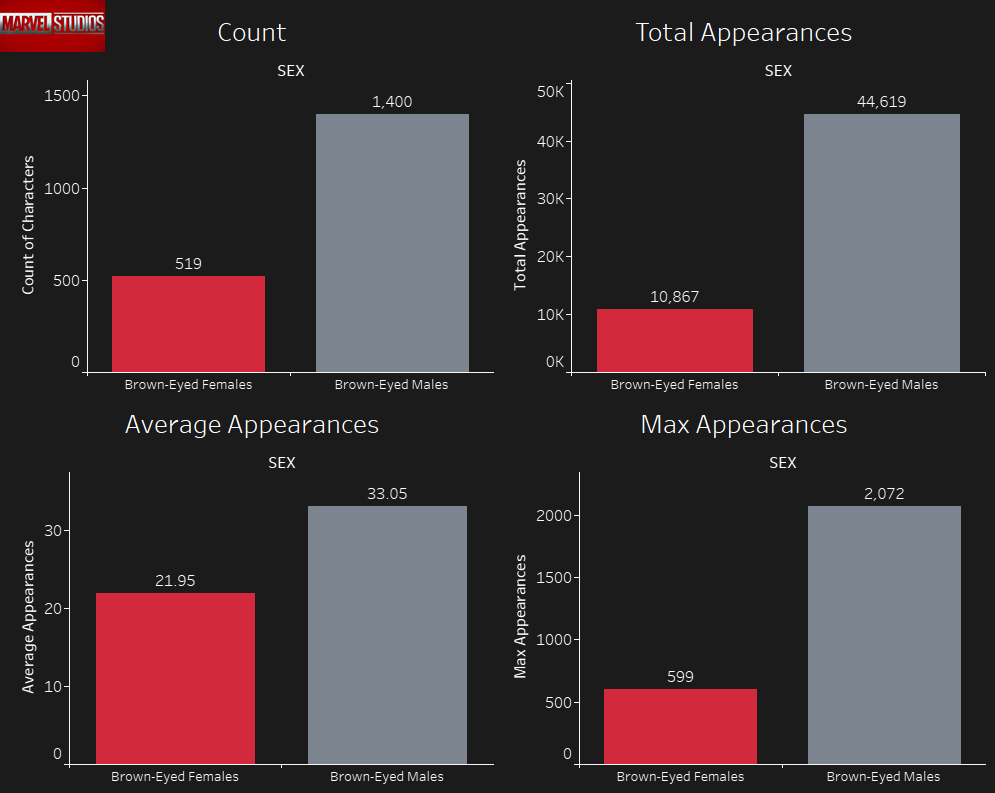

This screenshot's page, from the dashboard's own definition file:
{"tool":"tableau","page":{"name":"Summary Statistics","canvas":[1000,800],"ordinal":2},"visuals":[{"type":"worksheet","title":"Count","mark":"Bar","rows":["name"],"cols":["SEX"],"box":[8,8,492,392]},{"type":"worksheet","title":"Total Appearances","mark":"Bar","rows":["APPEARANCES"],"cols":["SEX"],"box":[500,8,492,392]},{"type":"worksheet","title":"Avg Appearances","mark":"Bar","rows":["APPEARANCES"],"cols":["SEX"],"box":[8,400,492,392]},{"type":"worksheet","title":"Max Appearances","mark":"Bar","rows":["APPEARANCES"],"cols":["SEX"],"box":[500,400,492,392]}]}

Visuals, with their boxes in screenshot pixels (x1, y1, x2, y2), scaled from the page's 1000x800 canvas onto the 995x793 screenshot:
"Count" worksheet (Bar marks): 8 8 498 396
"Total Appearances" worksheet (Bar marks): 498 8 987 396
"Avg Appearances" worksheet (Bar marks): 8 396 498 785
"Max Appearances" worksheet (Bar marks): 498 396 987 785
